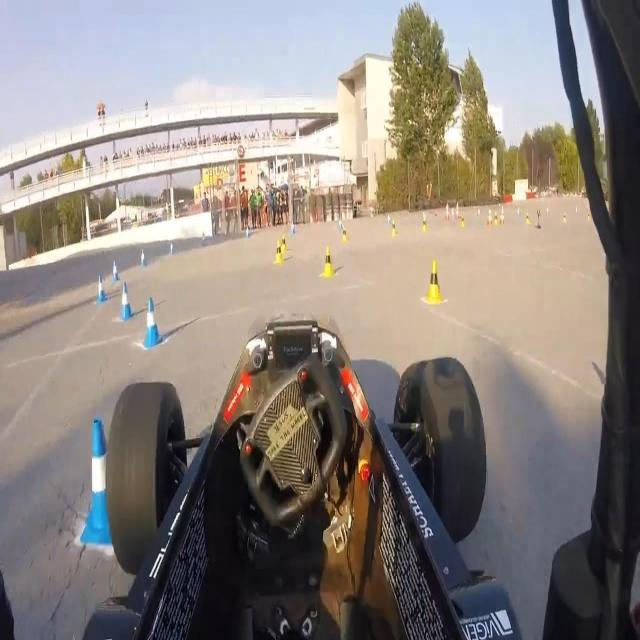blue_cone: (85, 419, 120, 538), (144, 298, 161, 351), (120, 282, 132, 321), (97, 275, 105, 303), (168, 240, 174, 259), (113, 262, 118, 284), (141, 249, 146, 267), (201, 232, 206, 248), (290, 220, 295, 235), (246, 225, 250, 238)
large_orange_cone: (500, 205, 505, 226), (445, 202, 450, 222), (487, 206, 492, 226), (456, 203, 460, 220)
yellow_cone: (428, 261, 442, 305), (323, 246, 333, 276), (275, 238, 282, 264), (341, 221, 348, 246), (421, 213, 428, 235), (391, 218, 397, 238), (460, 212, 466, 228), (281, 234, 286, 252), (494, 209, 498, 227), (525, 211, 530, 224)
